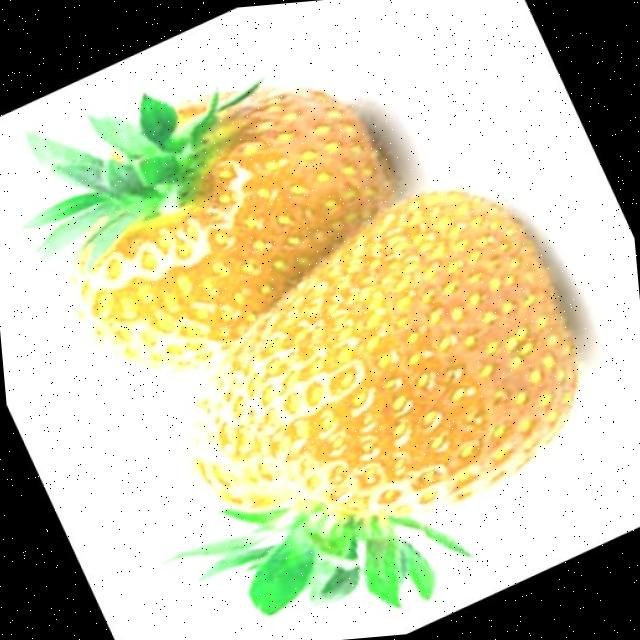strawberry: (181, 190, 575, 613), (28, 86, 393, 363)
